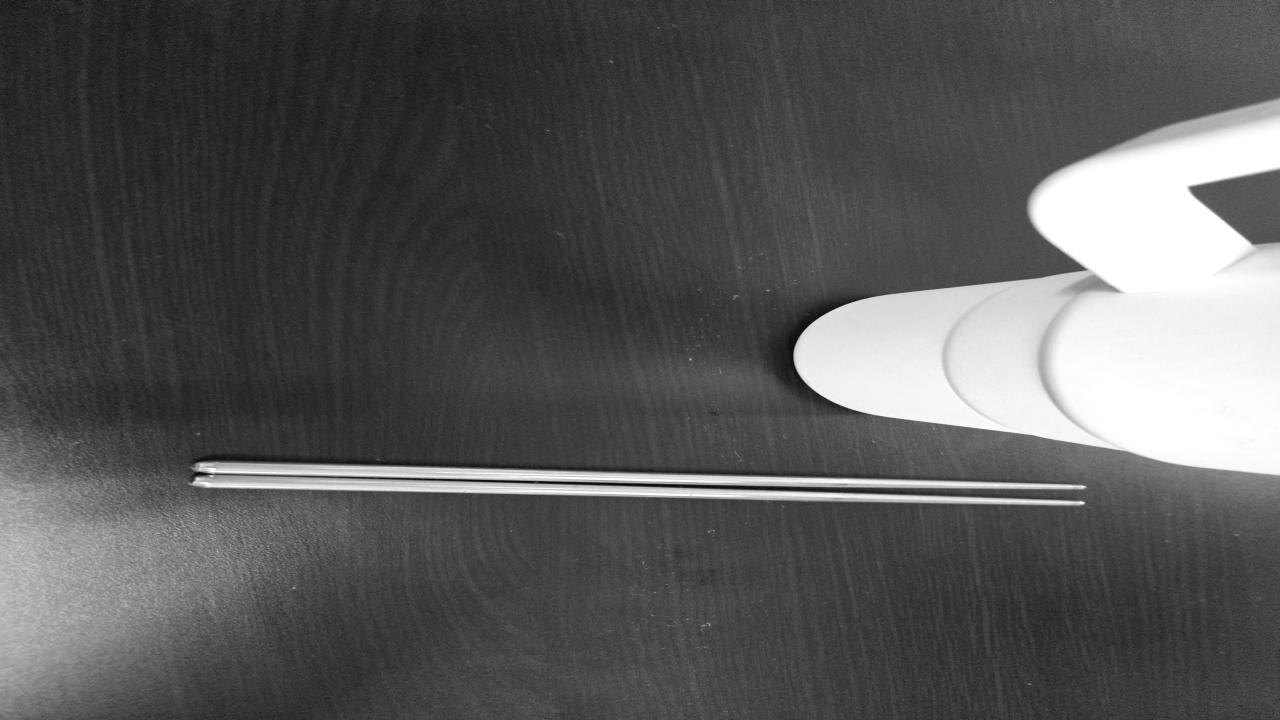chopstick: (188, 451, 1098, 514)
